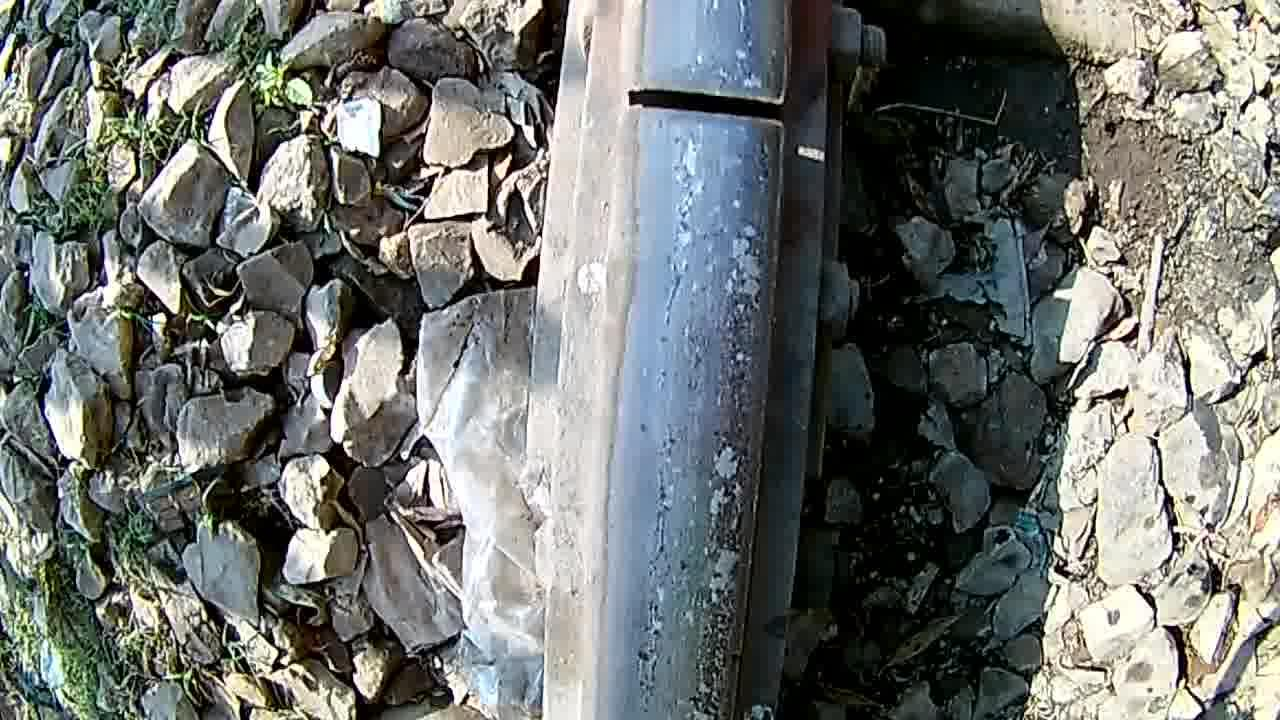clip_missing: (598, 157, 792, 720)
